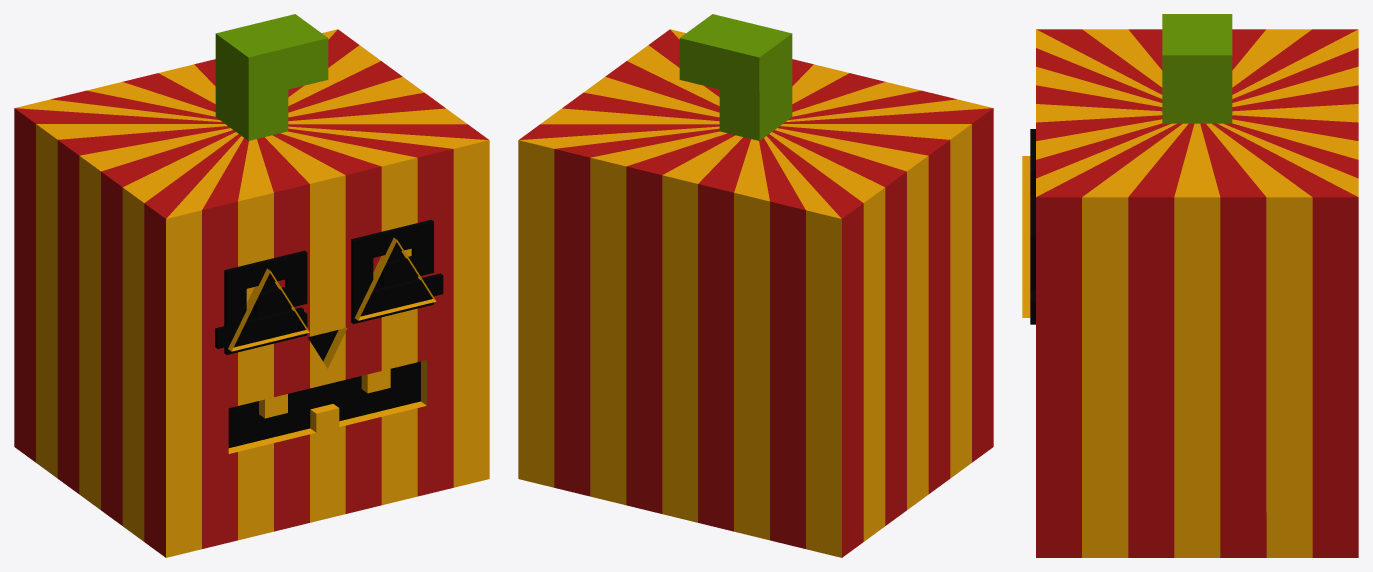
3 renders of one model, left to right at view 1: azimuth 30°, elevation 25°; view 2: azimuth 150°, elevation 25°; view 3: azimuth 270°, elevation 25°, orthographic. The views are drawn at different scales.
Parts seen in each view (by area): view 1: Ch_48, Ch_48_Eye_03_R, Ch_48_Eye_03_L; view 2: Ch_48; view 3: Ch_48, Ch_48_Eye_03_R.
Part boxes in pixels (<box>): Ch_48: <box>14,14,489,557</box>; Ch_48_Eye_03_R: <box>351,219,433,323</box>; Ch_48_Eye_03_L: <box>224,250,307,354</box>; Ch_48: <box>518,14,993,557</box>; Ch_48: <box>1022,14,1358,557</box>; Ch_48_Eye_03_R: <box>1030,194,1035,324</box>.
Bounding box in the file's own units: 7.68 × 9.58 × 6.5.
